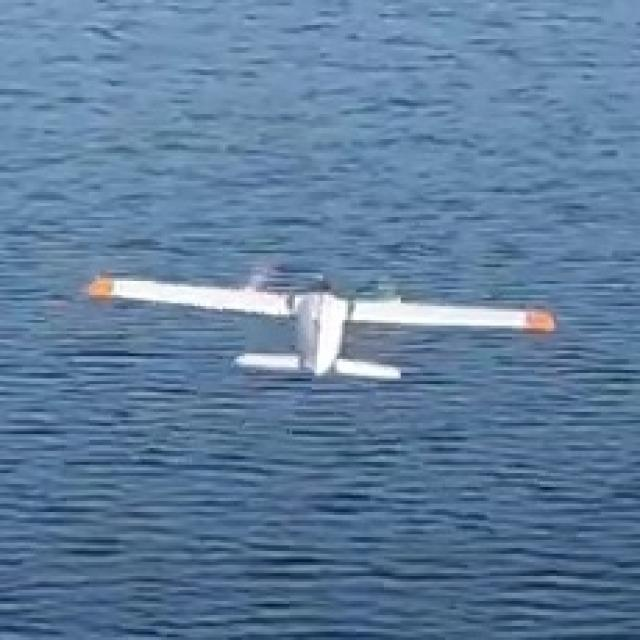iha: (86, 257, 560, 388)
